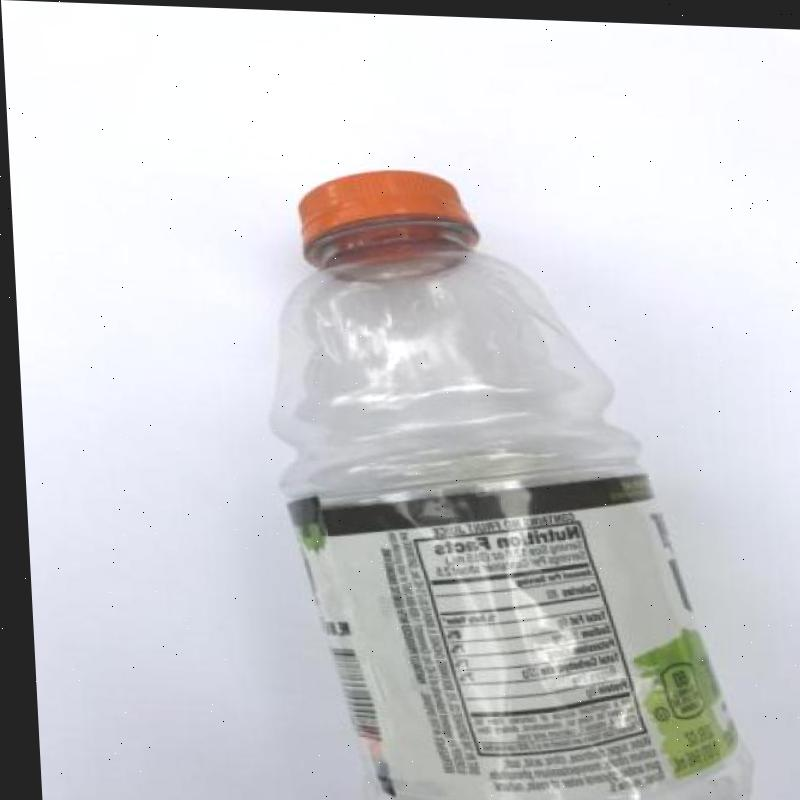botella: (250, 160, 748, 800)
